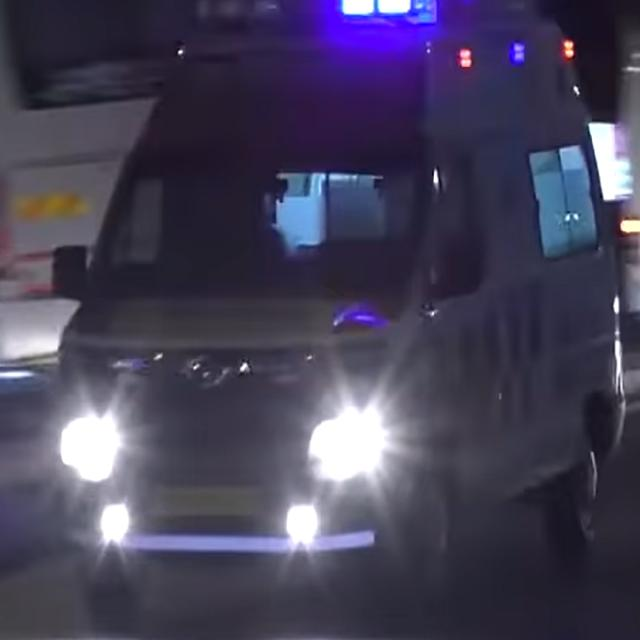ambulance: (47, 3, 633, 610)
